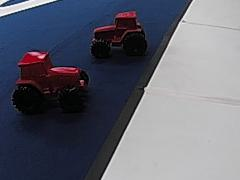Tracktor: (10, 46, 92, 115), (89, 10, 148, 56)
